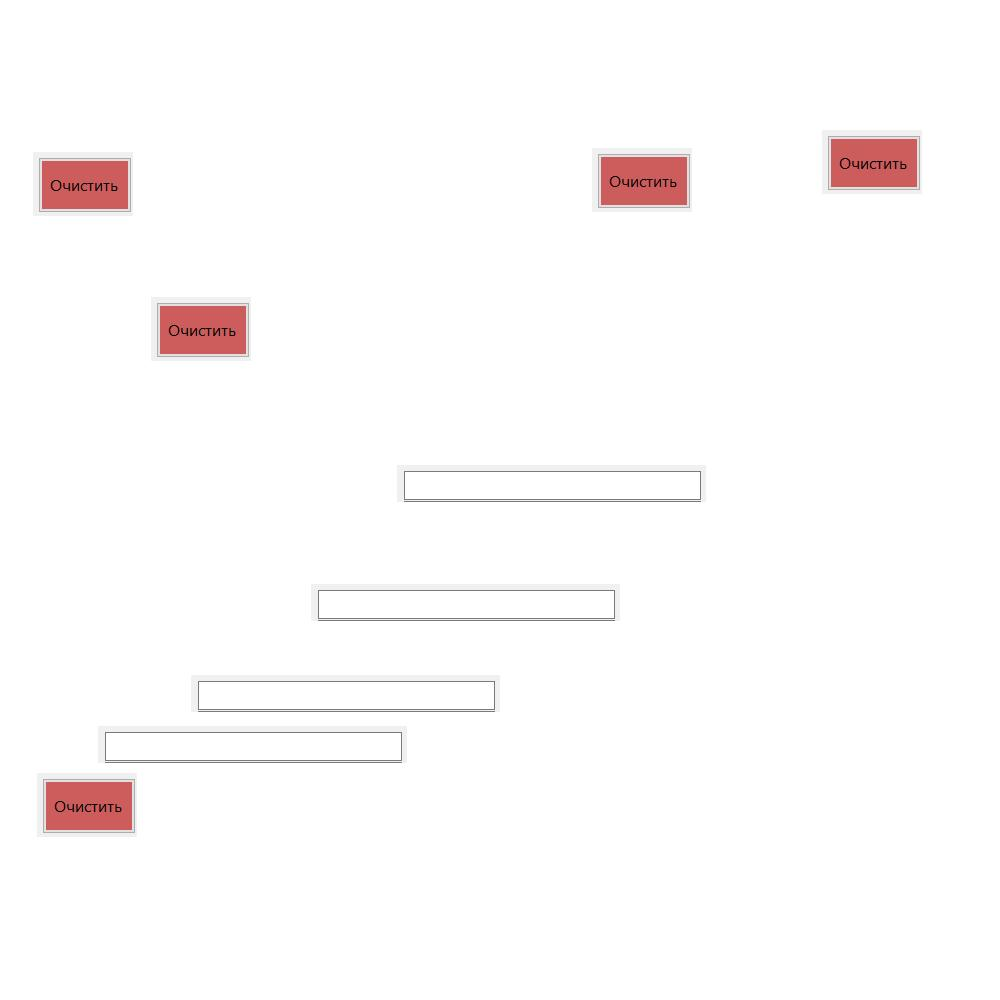Button: (151, 297, 251, 361), (37, 773, 137, 837), (33, 152, 133, 216), (822, 130, 922, 194), (592, 148, 692, 212)
EditText-: (311, 584, 620, 621), (397, 465, 706, 502), (191, 675, 500, 712), (98, 726, 407, 763)
